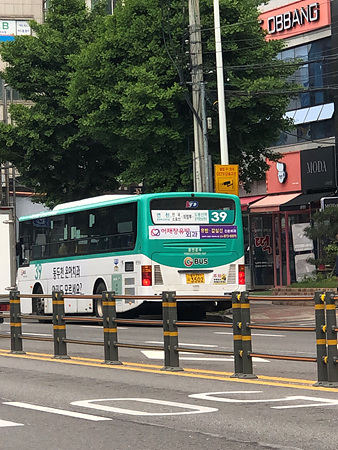bnum: (209, 209, 228, 222)
